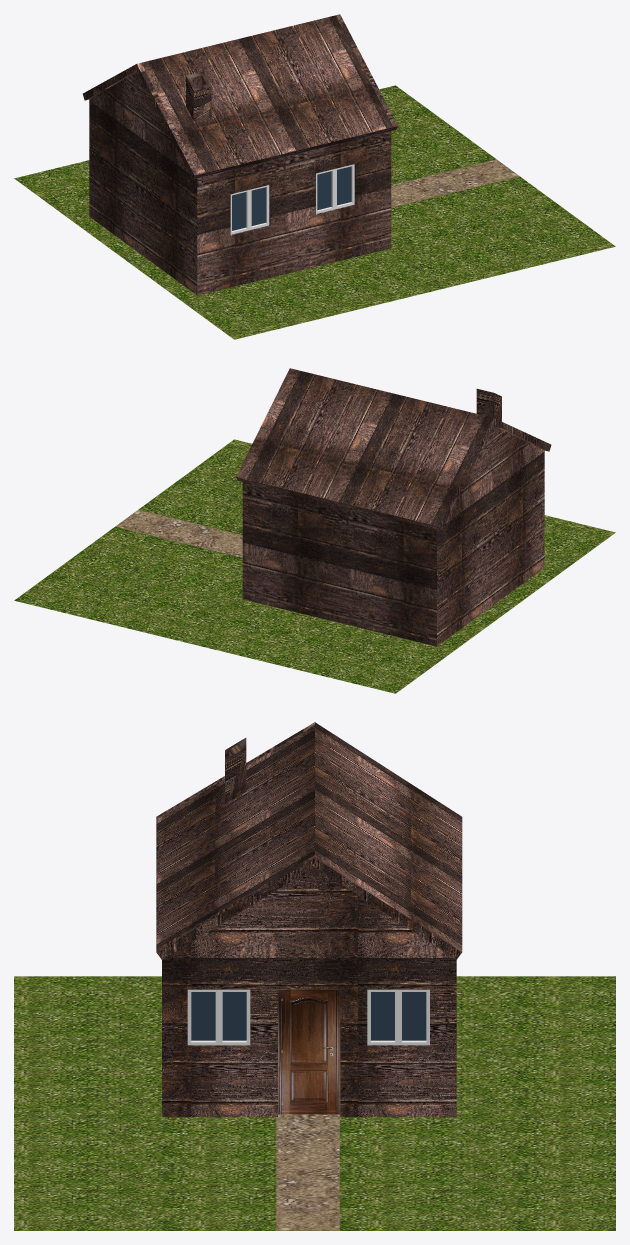
Rendered from house1.fbx.
The picture shows the model from 3 angles, top to bottom: view 1: azimuth 30°, elevation 25°; view 2: azimuth 150°, elevation 25°; view 3: azimuth 270°, elevation 25°; orthographic projection. The views are drawn at different scales.
Visible parts, largest first — view 1: house1; view 2: house1; view 3: house1.
Boxes of the visible parts, box(x1,y1,x2,y2) form: house1: box(14, 14, 615, 339); house1: box(14, 368, 615, 693); house1: box(14, 722, 615, 1230).
Size of the model in its own units: 200 by 96.57 by 200.
